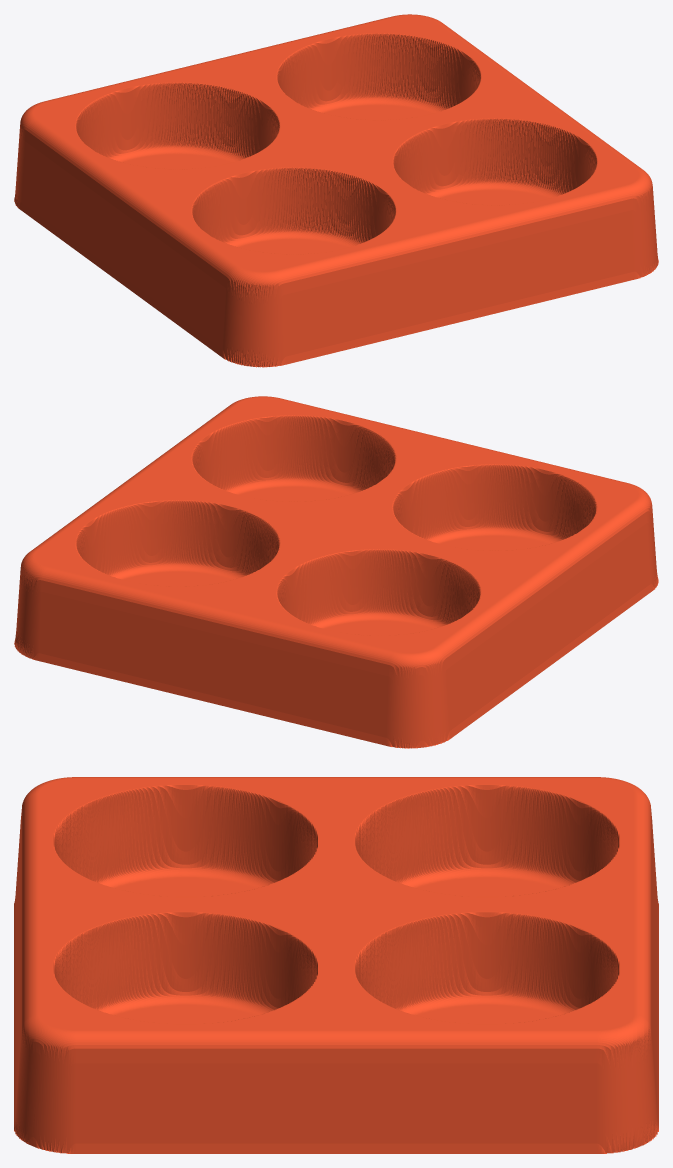
The model's file is mold.glb.
3 renders of one model, top to bottom at view 1: azimuth 30°, elevation 25°; view 2: azimuth 150°, elevation 25°; view 3: azimuth 270°, elevation 25°, orthographic. The views are drawn at different scales.
Visible parts, largest first — view 1: geometry_0; view 2: geometry_0; view 3: geometry_0.
Part boxes in pixels (<box>): geometry_0: <box>14,14,658,367</box>; geometry_0: <box>14,396,658,748</box>; geometry_0: <box>14,777,658,1153</box>.
Bounding box in the file's own units: 0.0942 × 0.0182 × 0.0942.
